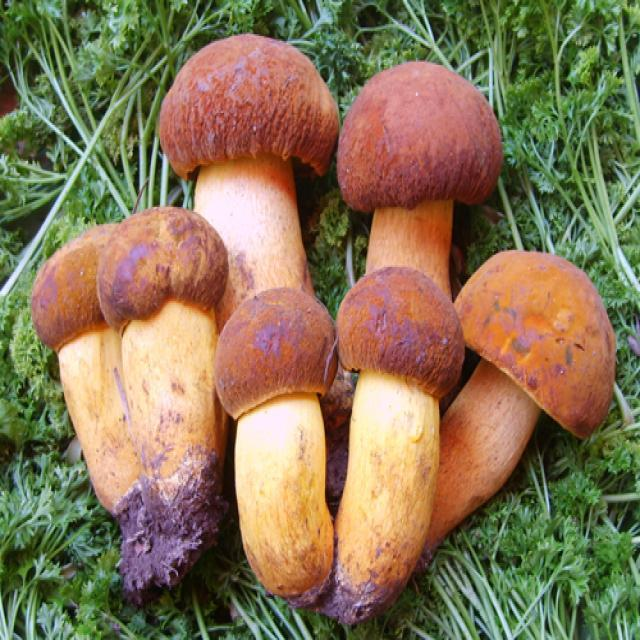Boletus: (37, 210, 230, 574), (401, 250, 618, 564), (161, 33, 335, 298), (340, 265, 464, 611), (331, 62, 502, 295), (217, 288, 341, 594)
